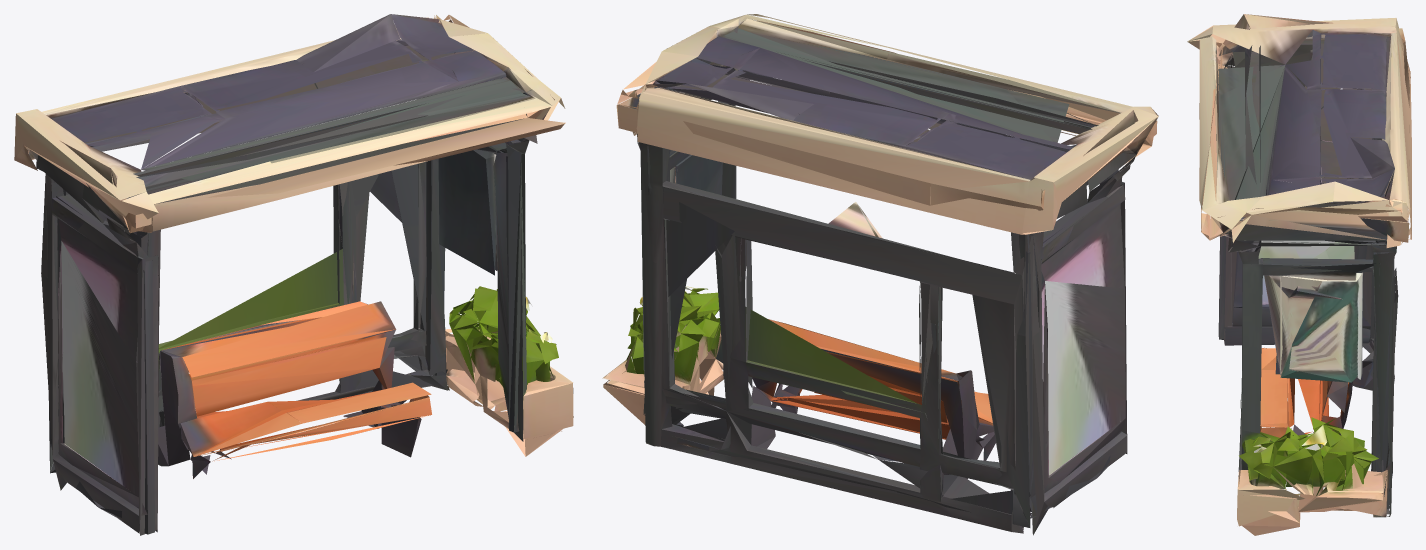
The model's file is M-10_02_busstop.glb.
The picture shows the model from 3 angles, left to right: view 1: azimuth 30°, elevation 25°; view 2: azimuth 150°, elevation 25°; view 3: azimuth 270°, elevation 25°; orthographic projection. The views are drawn at different scales.
Visible parts, largest first — view 1: M-10_02_busstop; view 2: M-10_02_busstop; view 3: M-10_02_busstop.
Boxes of the visible parts, x1,y1,x2,y2 form: M-10_02_busstop: (14,14,573,535); M-10_02_busstop: (602,14,1158,535); M-10_02_busstop: (1187,14,1411,535).
Size of the model in its own units: 5.55 by 4.47 by 2.64.
Materials: 2 (2 with a texture image).
